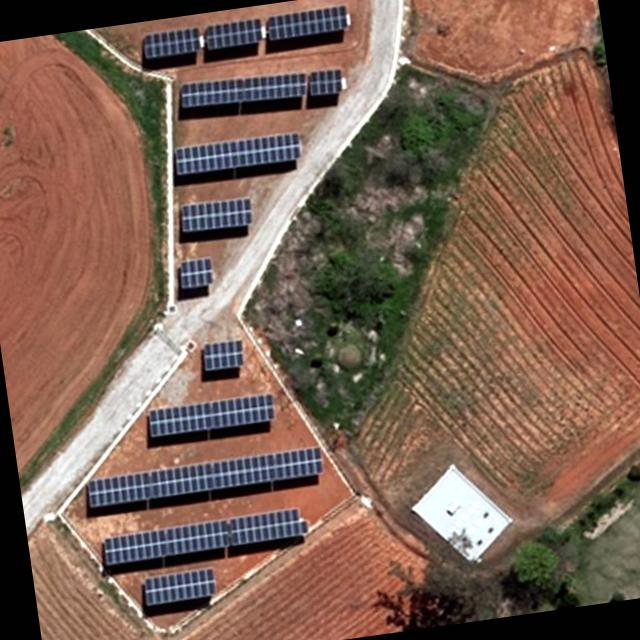solar: (85, 444, 328, 514), (170, 129, 302, 181), (99, 518, 231, 568), (177, 68, 308, 118), (148, 392, 276, 441), (225, 504, 312, 550), (140, 563, 220, 611), (262, 2, 353, 44), (175, 194, 258, 239), (200, 18, 266, 56), (138, 26, 200, 64), (200, 337, 246, 375), (176, 256, 216, 295), (305, 64, 346, 100)
